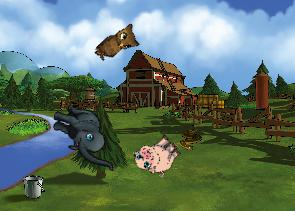elephant: (44, 101, 124, 171)
owl: (92, 19, 145, 71)
pig: (129, 127, 185, 183)
